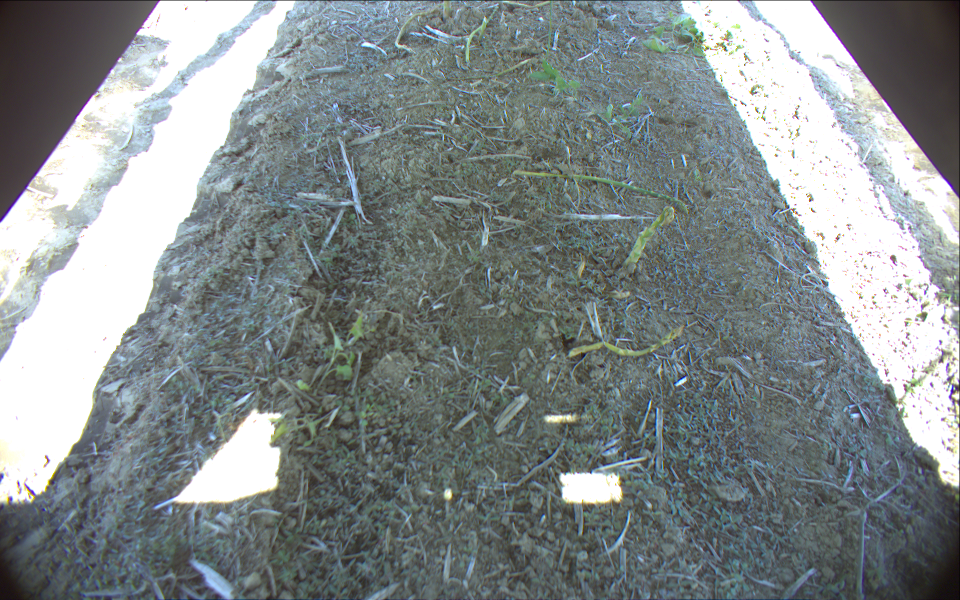aspa: (621, 204, 676, 273)
